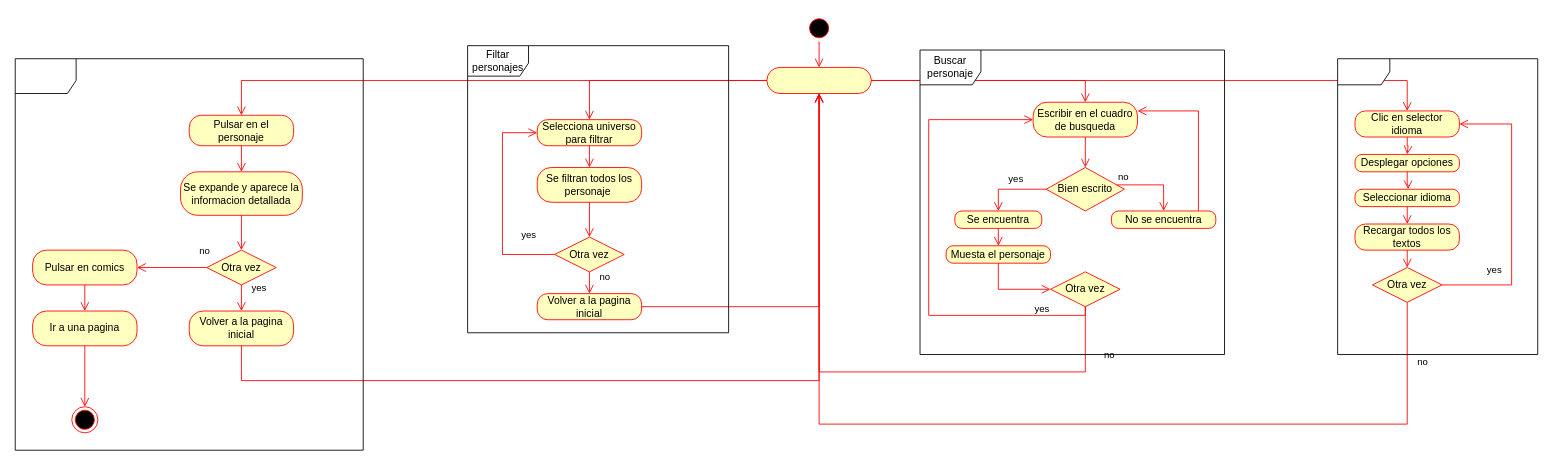
This 1553x465 diagram has some shape labels left out. Each missing label, with the box of its shape:
Cambio idioma: (1337, 58, 1538, 355)
Detalle de personaje: (14, 58, 363, 450)
Mostrar pagina inicial: (766, 67, 871, 94)
